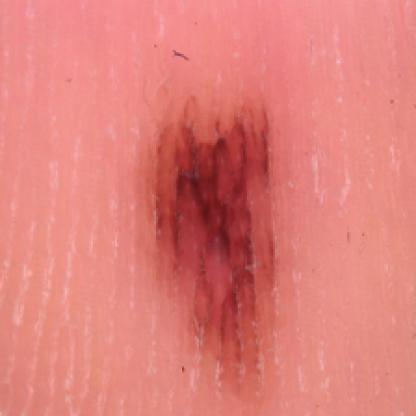benign: (149, 96, 297, 379)
